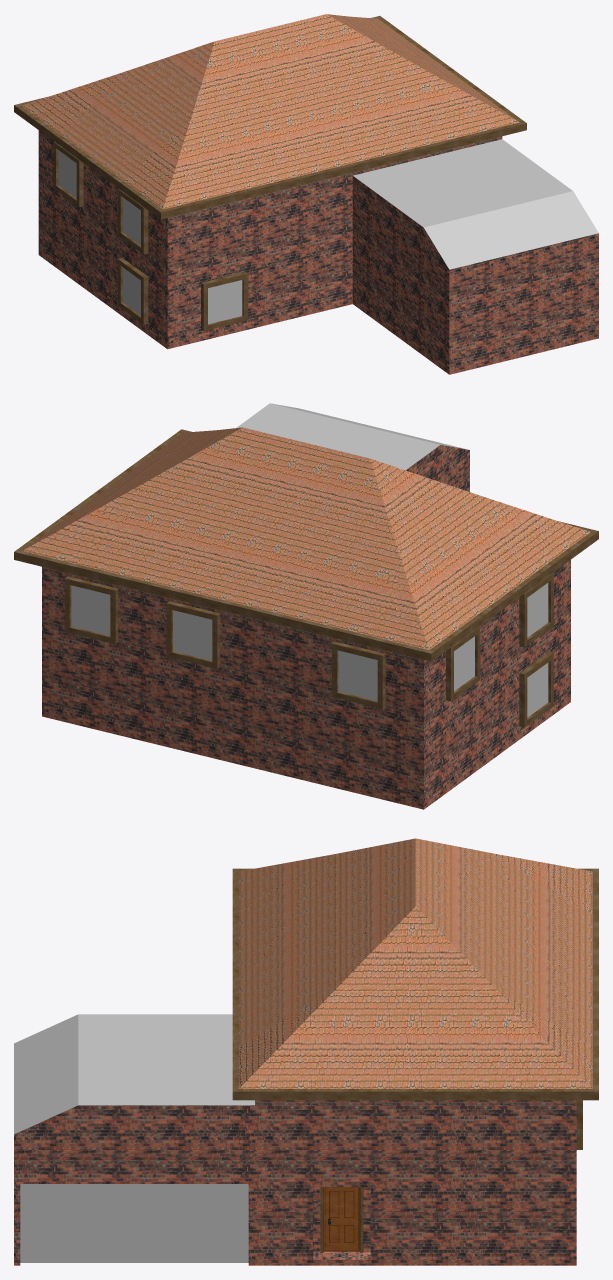
The model's file is house_002.fbx.
3 renders of one model, top to bottom at view 1: azimuth 30°, elevation 25°; view 2: azimuth 150°, elevation 25°; view 3: azimuth 270°, elevation 25°, orthographic. The views are drawn at different scales.
Visible parts, largest first — view 1: house2; view 2: house2; view 3: house2.
Part boxes in pixels (<box>): house2: <box>14,14,598,374</box>; house2: <box>14,403,598,809</box>; house2: <box>14,838,598,1265</box>.
Size of the model in its own units: 1640 by 1000 by 1820.
